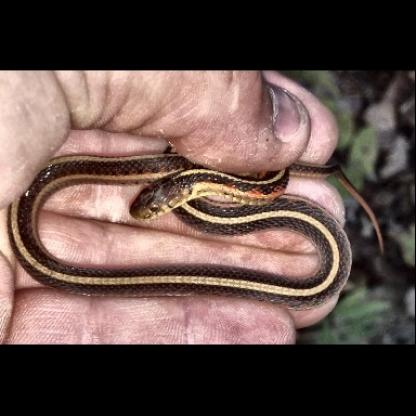Snake: (6, 143, 362, 314)
